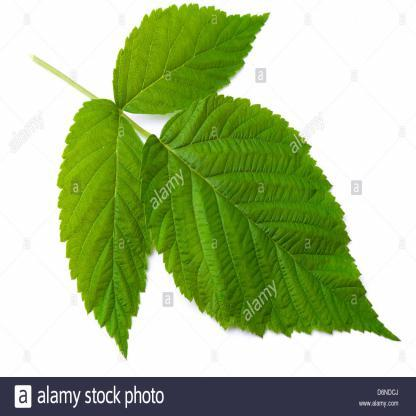Raspberry leaf: (135, 92, 403, 346), (55, 92, 155, 361), (110, 2, 272, 112)
